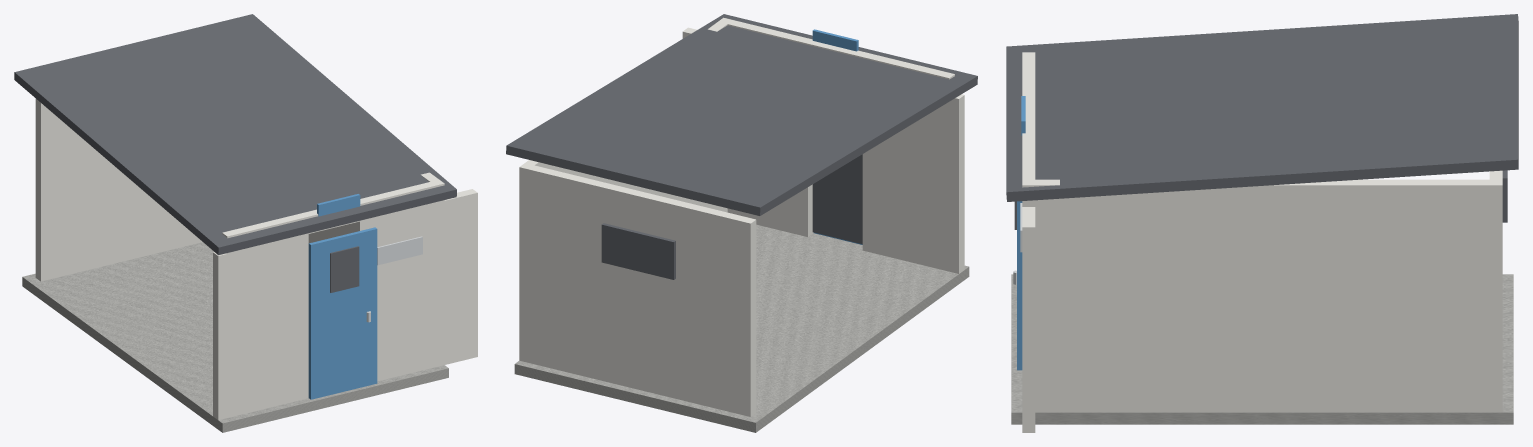
The model's file is caravan-park-and-campsite-laundry-room-module-f39c1a7f__35371.glb.
The picture shows the model from 3 angles, left to right: view 1: azimuth 30°, elevation 25°; view 2: azimuth 150°, elevation 25°; view 3: azimuth 270°, elevation 25°; orthographic projection. The views are drawn at different scales.
Parts seen in each view (by area): view 1: laundry-room-module-charcoal, laundry-room-module-shell, laundry-room-module-hard, door/azure, door/charcoal, laundry-room-module-galv, laundry-room-module-azure; view 2: laundry-room-module-shell, laundry-room-module-charcoal, laundry-room-module-hard, laundry-room-module-azure; view 3: laundry-room-module-shell, laundry-room-module-charcoal, laundry-room-module-hard, door/azure.
Part boxes in pixels (x1,y1,x2,y2): laundry-room-module-charcoal: (14,14,456,255); laundry-room-module-shell: (35,98,477,420); laundry-room-module-hard: (22,242,448,432); door/azure: (308,227,377,399); door/charcoal: (330,246,359,292); laundry-room-module-galv: (377,236,422,265); laundry-room-module-azure: (317,194,360,216); laundry-room-module-shell: (519,17,964,416); laundry-room-module-charcoal: (506,14,977,279); laundry-room-module-hard: (514,224,969,432); laundry-room-module-azure: (812,29,858,51); laundry-room-module-shell: (1022,52,1502,432); laundry-room-module-charcoal: (1006,14,1518,222); laundry-room-module-hard: (1011,274,1513,424); door/azure: (1017,201,1022,370).
Bounding box in the file's own units: 3.52 × 2.71 × 4.7.
Materials: 5 (1 with a texture image).
